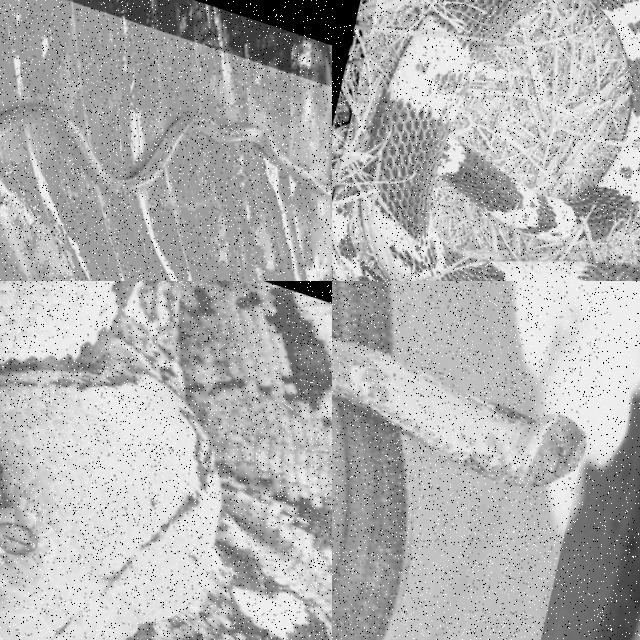Calliophis maculiceps: (0, 105, 331, 198)
Malayopython reticulatus: (0, 281, 331, 639)
Naja kaouthia: (362, 0, 639, 280)
Ophiophagus hannah: (332, 281, 584, 639)
